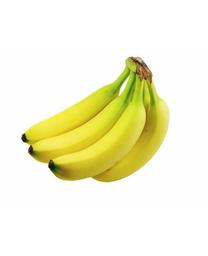banana: (21, 55, 170, 181)
